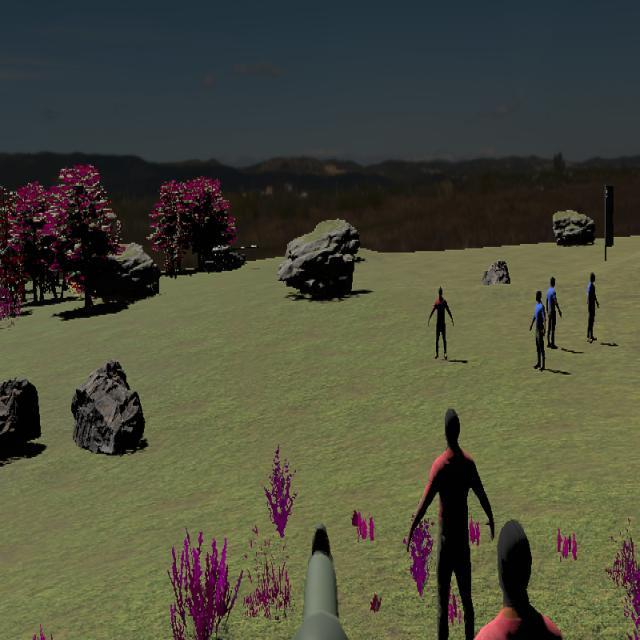Human: (406, 407, 495, 640), (530, 290, 546, 371), (545, 276, 562, 350)
Tank: (203, 242, 257, 272)
